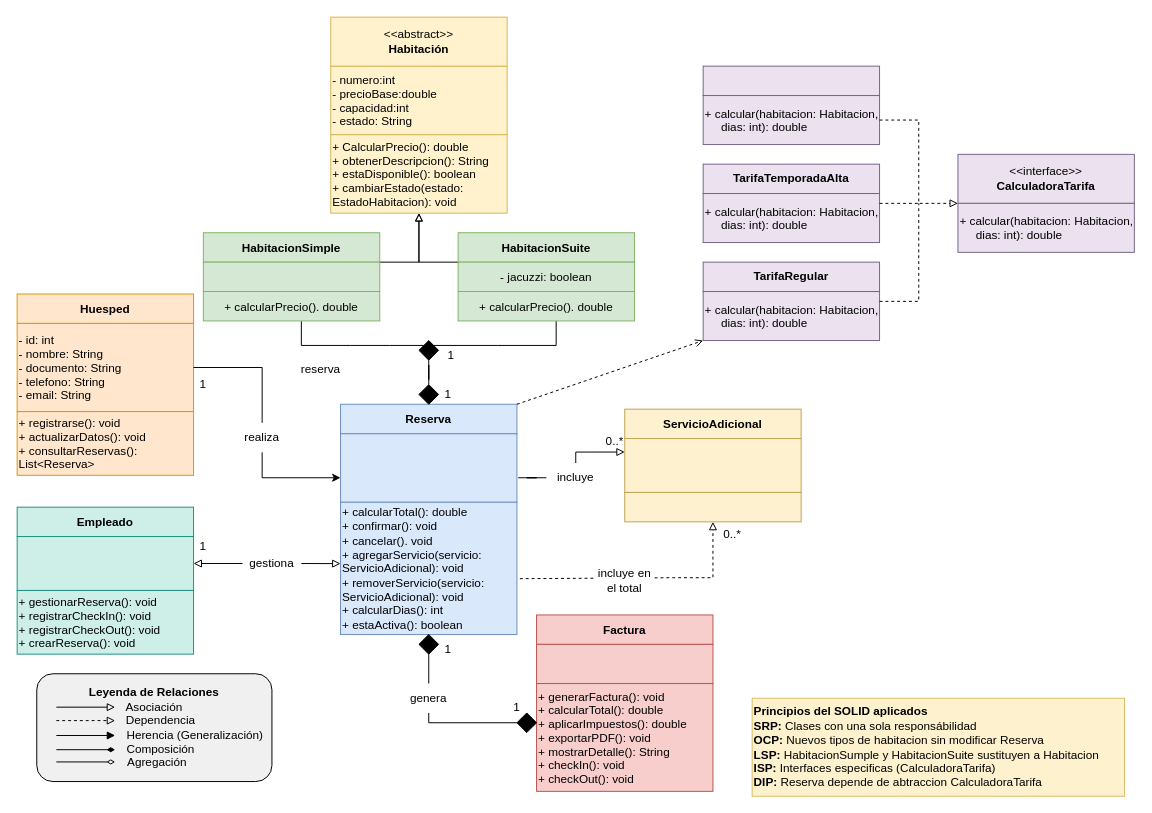
This 1152x813 diagram has some shape labels left out. The shapes that lost their labels are listed below. From the top down, each one's centre as x and y in pixels, then its label:
the point at 791,80: TarifaDescuento
the point at 428,467: - id: int - fechaInicio: Date - fechaFin: Date - estado: String
the point at 712,465: - id: int - nombre: String - precio: double
the point at 712,506: + calcularCosto(): double
the point at 105,563: - id: int - nombre: String - cargo: String
the point at 624,663: - id: int - total: double
